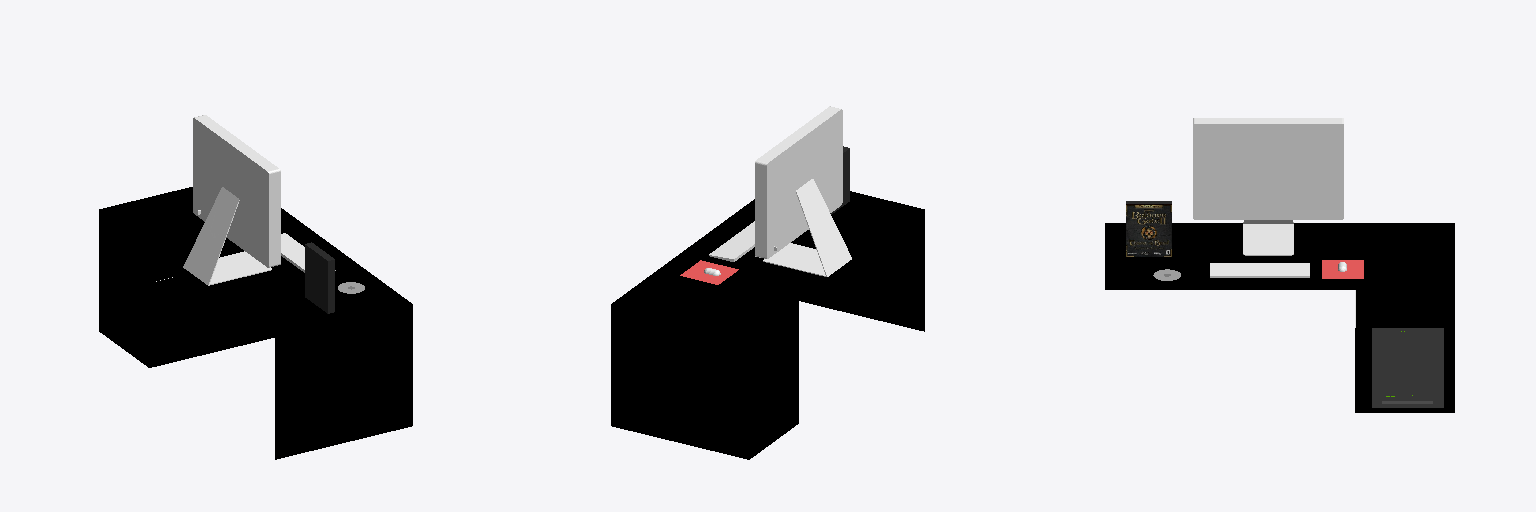
3 renders of one model, left to right at view 1: azimuth 30°, elevation 25°; view 2: azimuth 150°, elevation 25°; view 3: azimuth 270°, elevation 25°, orthographic.
Parts seen in each view (by area): view 1: Mesh9 Component_16_1 Model, Mesh4 Ordi1 Component_16_1 Model, Mesh7 Ordi1 Component_16_1 Model, Mesh6 Ordi1 Component_16_1 Model, Mesh5 Ordi1 Component_16_1 Model, Mesh3 Ordi1 Component_16_1 Model; view 2: Mesh9 Component_16_1 Model, Mesh4 Ordi1 Component_16_1 Model, Mesh7 Ordi1 Component_16_1 Model, Mesh5 Ordi1 Component_16_1 Model, Mesh3 Ordi1 Component_16_1 Model, Mesh2 Ordi1 Component_16_1 Model; view 3: Mesh9 Component_16_1 Model, Mesh4 Ordi1 Component_16_1 Model, Mesh1 dell1 Component_16_1 Model, Mesh6 Ordi1 Component_16_1 Model, Mesh5 Ordi1 Component_16_1 Model, Mesh3 Ordi1 Component_16_1 Model, Mesh2 Ordi1 Component_16_1 Model.
Boxes of the visible parts, x1,y1,x2,y2 form: Mesh9 Component_16_1 Model: [99, 187, 412, 459]; Mesh4 Ordi1 Component_16_1 Model: [193, 115, 280, 267]; Mesh7 Ordi1 Component_16_1 Model: [183, 187, 239, 285]; Mesh6 Ordi1 Component_16_1 Model: [305, 242, 334, 313]; Mesh5 Ordi1 Component_16_1 Model: [209, 251, 271, 285]; Mesh3 Ordi1 Component_16_1 Model: [281, 233, 335, 272]; Mesh9 Component_16_1 Model: [611, 191, 924, 459]; Mesh4 Ordi1 Component_16_1 Model: [755, 106, 842, 258]; Mesh7 Ordi1 Component_16_1 Model: [796, 179, 851, 276]; Mesh5 Ordi1 Component_16_1 Model: [763, 243, 826, 276]; Mesh3 Ordi1 Component_16_1 Model: [709, 221, 754, 261]; Mesh2 Ordi1 Component_16_1 Model: [680, 260, 738, 284]; Mesh9 Component_16_1 Model: [1105, 223, 1454, 412]; Mesh4 Ordi1 Component_16_1 Model: [1193, 118, 1343, 219]; Mesh1 dell1 Component_16_1 Model: [1372, 328, 1443, 407]; Mesh6 Ordi1 Component_16_1 Model: [1126, 201, 1171, 256]; Mesh5 Ordi1 Component_16_1 Model: [1243, 224, 1293, 255]; Mesh3 Ordi1 Component_16_1 Model: [1210, 263, 1309, 277]; Mesh2 Ordi1 Component_16_1 Model: [1322, 260, 1363, 278].
Size of the model in its own units: 0.685 by 1.17 by 1.51.
Materials: 11 (1 with a texture image).